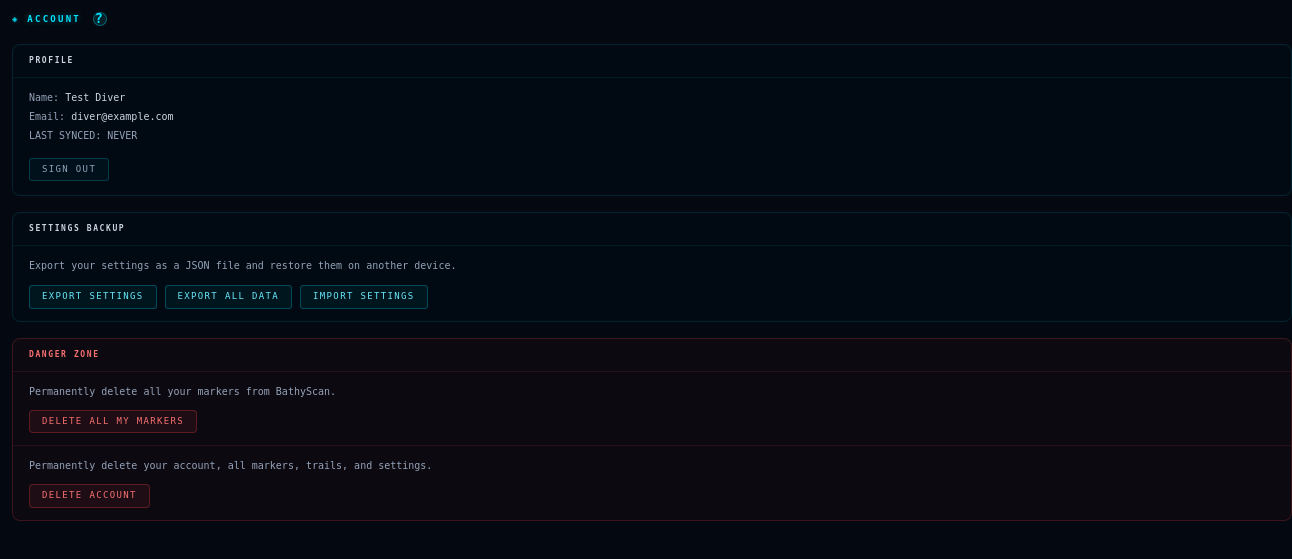
Test: AccountSection — sign-out button hardening › shows an inline error when Clerk signOut rejects, and re-enables the button
The image size is (1292, 559).
Click the button with test id "settings-sign-out-btn": coordinates (69, 170) [29, 158, 109, 181]
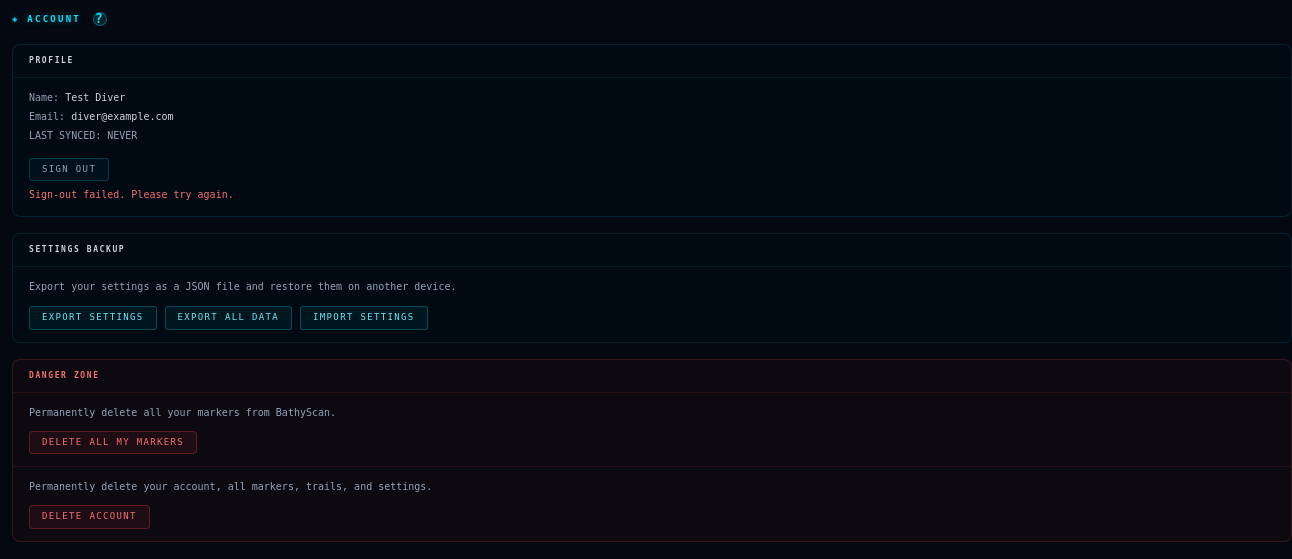
Now the text with test id "sign-out-error" shows "Sign-out failed", box [29, 189, 234, 200]
